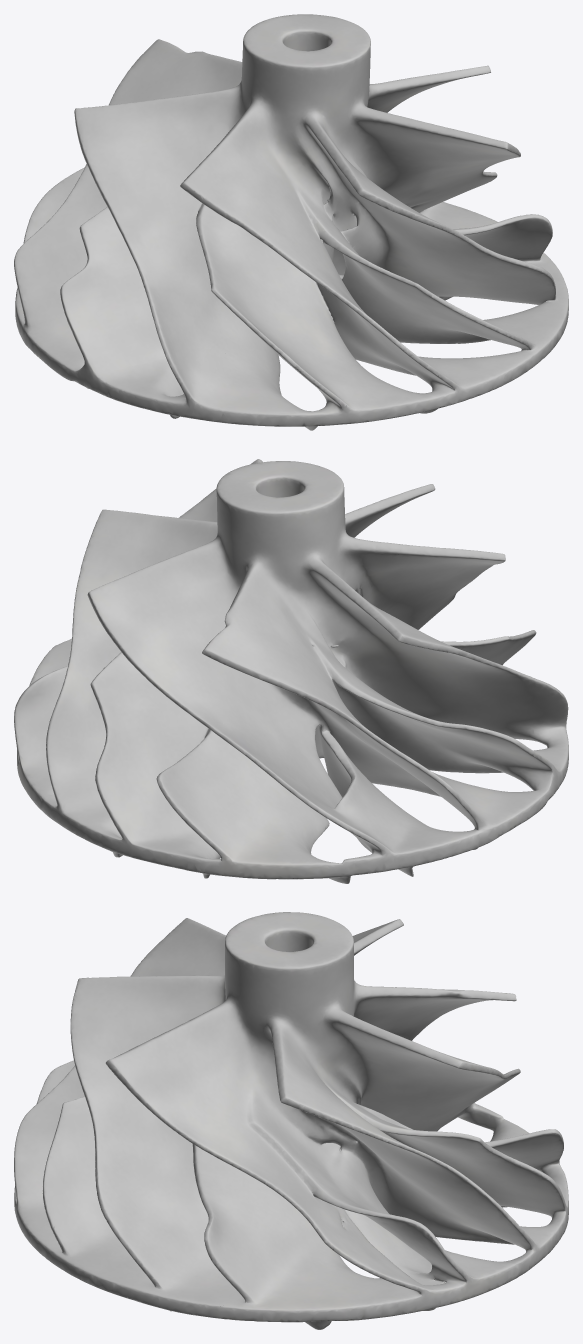
Rendered from 00_turboblade_vanilla.glb.
3 views of the same model, one above another, from view 1: azimuth 30°, elevation 25°; view 2: azimuth 150°, elevation 25°; view 3: azimuth 270°, elevation 25° (orthographic).
Visible parts, largest first — view 1: world; view 2: world; view 3: world.
Part boxes in pixels (x1,y1,x2,y2): world: (14, 14, 568, 430); world: (14, 459, 568, 883); world: (14, 912, 568, 1329).
Size of the model in its own units: 0.999 by 0.5745 by 0.9959.
Materials: 1 (1 with a texture image).
